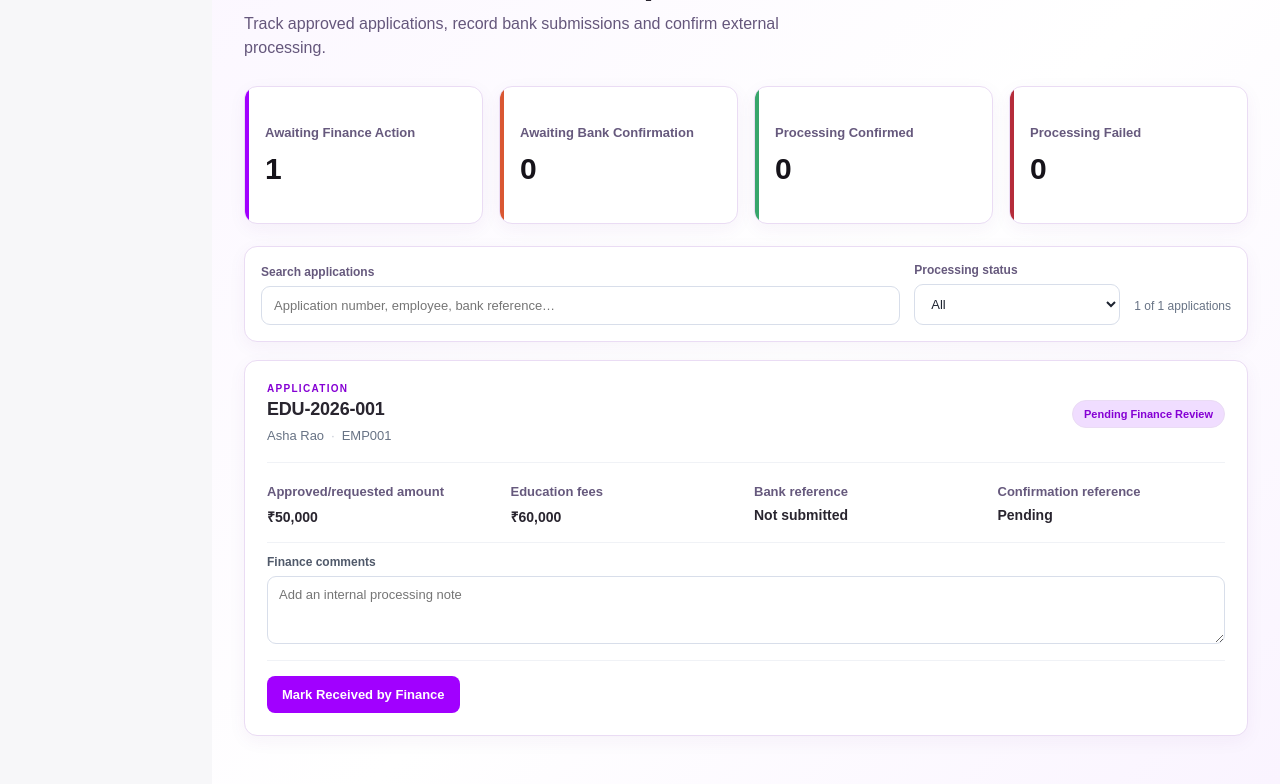
Test: FinanceDashboardPage › records Finance receipt only after the API confirms success and refreshes the queue
(page scrolled)
Check: the heading "EDU-2026-001" is shown, box top-left (267, 399), bottom-right (392, 420)
Click the button "Mark Received by Finance" at (363, 695), box top-left (267, 676), bottom-right (460, 713)
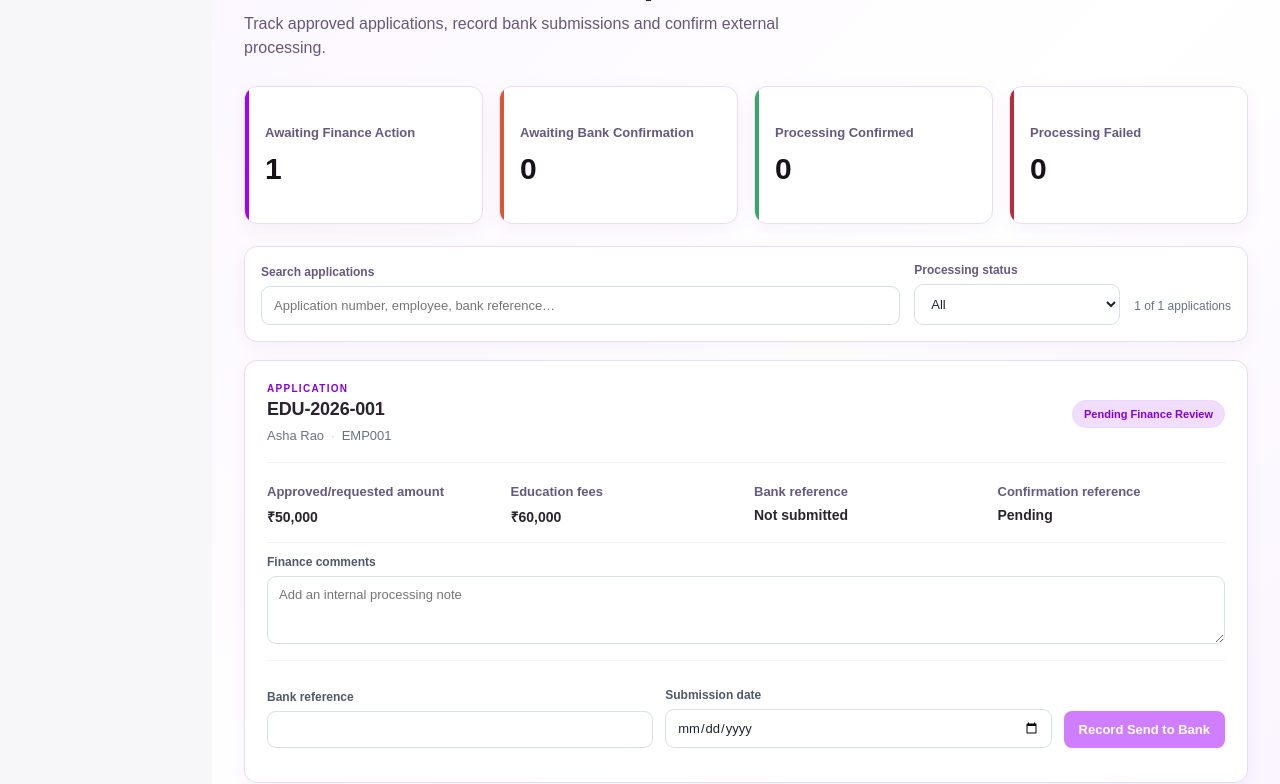
Check: the field labelled "Bank reference" is shown, box top-left (267, 711), bottom-right (653, 748)
